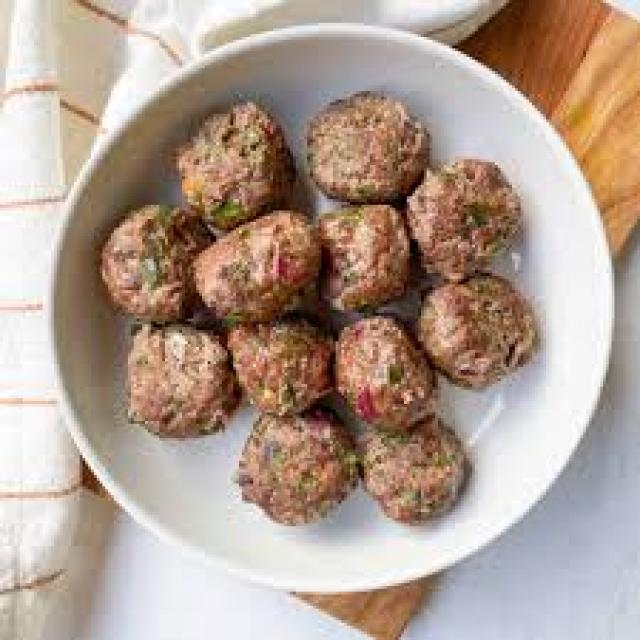Meatball: (165, 98, 296, 229), (413, 260, 542, 387), (116, 315, 243, 441), (229, 410, 361, 530), (296, 87, 428, 204), (88, 199, 202, 329), (392, 163, 522, 273), (354, 410, 472, 529), (196, 213, 320, 322), (308, 199, 424, 307), (331, 322, 444, 426)
